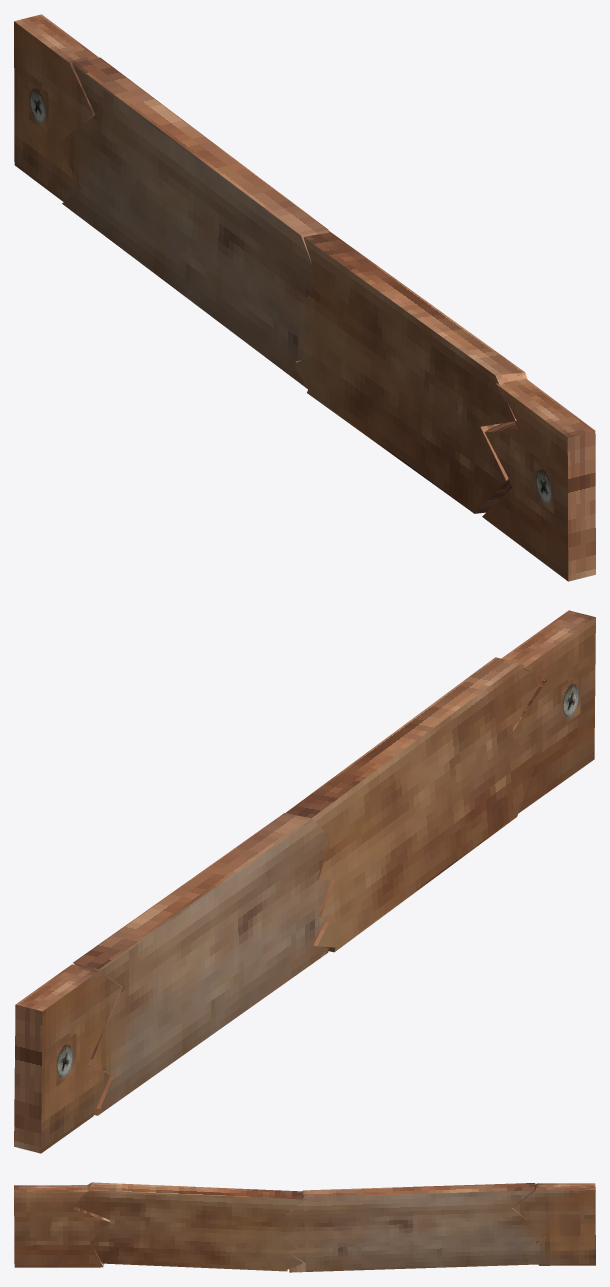
Rendered from plank.glb.
3 views of the same model, one above another, from view 1: azimuth 30°, elevation 25°; view 2: azimuth 150°, elevation 25°; view 3: azimuth 270°, elevation 25° (orthographic). The views are drawn at different scales.
Visible parts, largest first — view 1: Cube.003, Cube.002, Cube.001; view 2: Cube.003, Cube.002, Cube.001; view 3: Cube.003, Cube.002, Cube.001.
Part boxes in pixels (x1,y1,x2,y2): Cube.003: [57, 57, 329, 388]; Cube.002: [293, 231, 527, 513]; Cube.001: [14, 14, 595, 581]; Cube.003: [73, 813, 331, 1115]; Cube.002: [286, 657, 545, 952]; Cube.001: [14, 610, 595, 1153]; Cube.003: [283, 1183, 545, 1272]; Cube.002: [73, 1182, 306, 1271]; Cube.001: [14, 1183, 595, 1267].
Size of the model in its own units: 0.1363 by 0.4369 by 2.8.
1 material, 1 textured.
